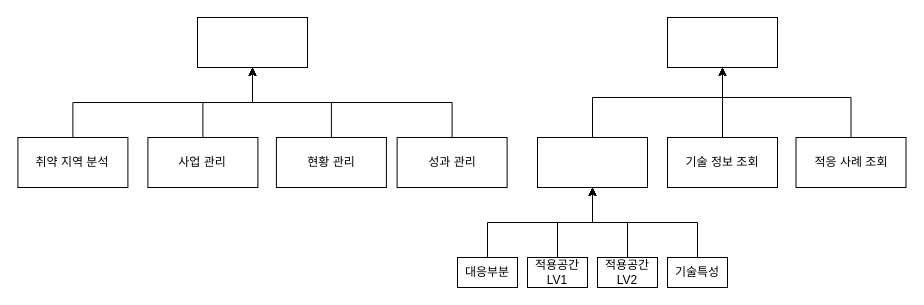
This 924x305 diagram has some shape labels left out. The shapes that lost their labels are listed below. From the top down, each one's centre as x and y in pixels, then its label:
the point at 252,42: 행정업무 지원
the point at 722,42: 기술 인벤토리
the point at 592,162: 기술목록 조회
